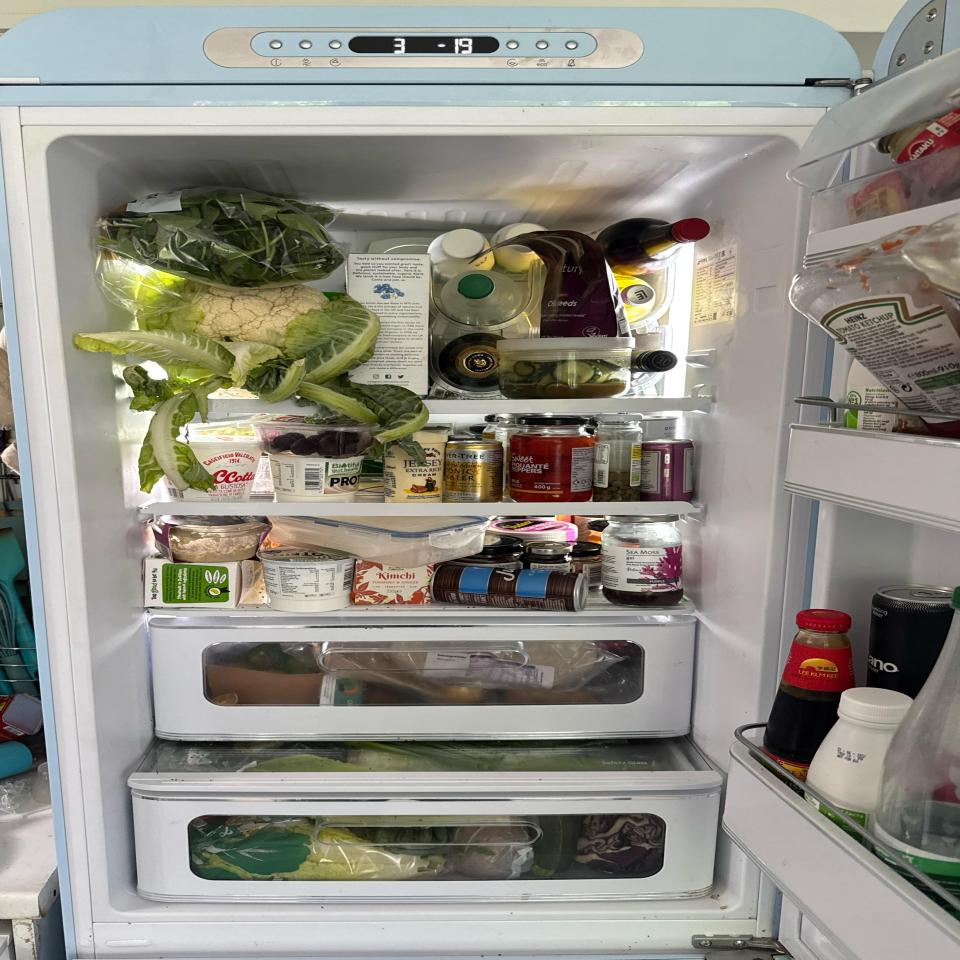ketchup: (791, 225, 960, 439)
